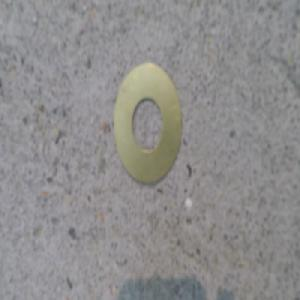Washer: (113, 60, 182, 182)
